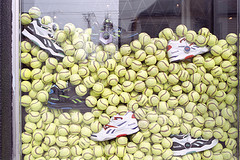tennis ball: (23, 120, 37, 134), (155, 71, 169, 85), (225, 31, 239, 45), (176, 93, 190, 107), (107, 91, 120, 106), (28, 6, 42, 19), (54, 29, 68, 42), (36, 88, 49, 102), (41, 110, 55, 123), (138, 140, 152, 153), (138, 31, 151, 45), (158, 89, 171, 103), (201, 72, 214, 86), (187, 90, 201, 103), (167, 114, 180, 128), (196, 102, 209, 116), (225, 138, 239, 151), (29, 110, 41, 125), (75, 47, 87, 62), (20, 95, 33, 108), (31, 78, 44, 91), (29, 98, 42, 111), (62, 55, 75, 68), (81, 147, 94, 160), (131, 131, 144, 144), (134, 48, 147, 61), (157, 59, 170, 72), (175, 24, 188, 37), (20, 130, 32, 144), (32, 129, 46, 141), (41, 70, 53, 84), (71, 111, 83, 125), (71, 144, 83, 158), (56, 68, 70, 80), (84, 41, 96, 55), (154, 37, 168, 49), (220, 107, 232, 121), (20, 52, 33, 64), (57, 122, 69, 135), (75, 84, 87, 97), (92, 82, 105, 94), (96, 98, 109, 110), (82, 112, 95, 124), (115, 135, 128, 147), (107, 74, 119, 87), (114, 64, 126, 77), (134, 108, 147, 120), (130, 39, 142, 52), (162, 26, 174, 39), (145, 76, 158, 88), (146, 111, 159, 123), (210, 44, 223, 56), (157, 100, 169, 113), (161, 148, 174, 160), (181, 80, 193, 93), (170, 85, 183, 97), (207, 99, 219, 112), (64, 22, 75, 36), (45, 133, 56, 147), (69, 133, 80, 147), (62, 44, 76, 55), (204, 116, 215, 130), (228, 126, 239, 140), (46, 121, 56, 136), (19, 13, 31, 25), (19, 68, 31, 80), (20, 142, 32, 154), (59, 112, 71, 124), (105, 58, 117, 70), (97, 67, 109, 79), (85, 95, 97, 107), (98, 113, 110, 125), (104, 144, 116, 156), (111, 83, 123, 95), (122, 81, 134, 93), (151, 143, 163, 155), (149, 122, 161, 134), (195, 34, 207, 46), (168, 62, 180, 74), (161, 137, 173, 149), (225, 93, 237, 105), (221, 148, 233, 160), (19, 80, 32, 91), (72, 37, 85, 48), (103, 43, 116, 54), (81, 125, 92, 138), (79, 136, 90, 149), (91, 120, 102, 133), (136, 95, 149, 106), (198, 26, 211, 37), (207, 34, 218, 47), (193, 54, 204, 67), (210, 66, 223, 77), (178, 70, 191, 81), (227, 75, 238, 88), (47, 55, 57, 69), (37, 50, 48, 62), (32, 146, 44, 157), (51, 107, 63, 118), (56, 135, 68, 146), (48, 147, 60, 158), (60, 146, 71, 158), (70, 123, 81, 135), (79, 31, 91, 42), (87, 61, 99, 72), (83, 77, 95, 88), (93, 145, 104, 157), (106, 105, 117, 117), (120, 43, 131, 55), (121, 55, 132, 67), (125, 69, 136, 81), (138, 118, 149, 130), (131, 60, 143, 71), (136, 69, 148, 80), (145, 43, 156, 55), (155, 49, 167, 60), (147, 65, 159, 76), (149, 94, 160, 106), (186, 30, 197, 42), (168, 73, 179, 85), (161, 125, 172, 137), (221, 60, 232, 72), (190, 73, 202, 84), (168, 97, 179, 109), (215, 90, 226, 102), (191, 126, 202, 138), (192, 115, 204, 126), (215, 116, 226, 128), (41, 15, 54, 25), (21, 40, 31, 53), (31, 57, 41, 70), (132, 151, 146, 160), (194, 83, 208, 92), (31, 68, 42, 79), (56, 78, 67, 89), (75, 26, 86, 37), (96, 51, 107, 62), (115, 146, 126, 157), (120, 92, 131, 103), (127, 100, 138, 111), (127, 142, 138, 153), (221, 49, 232, 60), (204, 58, 215, 69), (186, 63, 197, 74), (207, 86, 218, 97), (183, 112, 194, 123), (70, 75, 82, 85), (113, 51, 123, 63), (151, 133, 163, 143), (135, 80, 145, 92), (145, 55, 157, 65), (157, 115, 169, 125), (203, 128, 213, 140), (201, 149, 213, 159), (191, 151, 204, 160), (42, 62, 52, 73), (79, 66, 89, 77), (101, 88, 112, 98), (117, 104, 127, 115), (143, 103, 154, 113), (228, 66, 239, 76), (228, 55, 238, 66), (217, 82, 228, 92), (199, 93, 209, 104), (185, 102, 196, 112), (174, 107, 184, 118), (180, 124, 191, 134), (228, 113, 238, 124), (70, 63, 79, 75), (217, 39, 229, 48), (208, 109, 220, 118), (32, 43, 39, 58), (28, 88, 38, 98), (36, 120, 46, 130), (42, 150, 52, 160), (92, 107, 102, 117), (55, 62, 66, 71), (229, 44, 238, 55), (214, 128, 223, 139), (41, 139, 49, 151), (50, 22, 59, 32), (91, 73, 101, 82), (142, 129, 152, 138), (163, 83, 173, 92), (153, 84, 163, 93), (222, 122, 231, 132), (219, 133, 228, 143), (228, 103, 239, 111), (212, 144, 223, 152), (31, 138, 41, 146), (130, 92, 140, 100), (144, 88, 154, 96), (196, 66, 206, 74), (220, 72, 228, 82), (122, 153, 133, 160), (212, 152, 223, 159), (23, 113, 31, 122), (40, 105, 49, 113), (89, 139, 98, 147), (214, 56, 222, 65), (172, 127, 181, 135), (227, 87, 237, 94), (219, 100, 226, 110), (182, 154, 193, 160), (179, 61, 187, 69), (23, 154, 33, 160), (25, 105, 32, 113), (46, 83, 53, 91), (54, 118, 61, 126), (88, 53, 96, 60), (157, 29, 164, 37), (212, 78, 219, 86), (94, 155, 105, 160), (107, 155, 118, 160), (166, 110, 175, 116), (152, 155, 162, 160), (95, 45, 103, 51), (229, 155, 238, 160), (119, 76, 125, 83), (145, 154, 152, 160), (204, 52, 211, 58), (172, 156, 181, 160), (35, 156, 43, 160)
